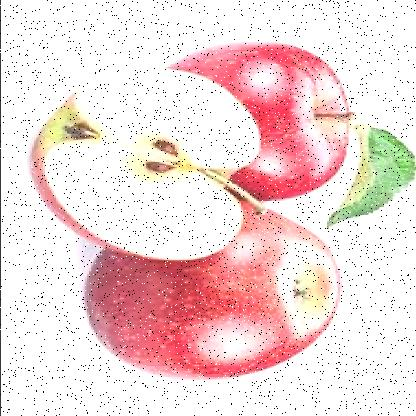apple: (93, 206, 341, 378), (150, 45, 354, 204)
damaged_apple: (40, 62, 258, 262)
